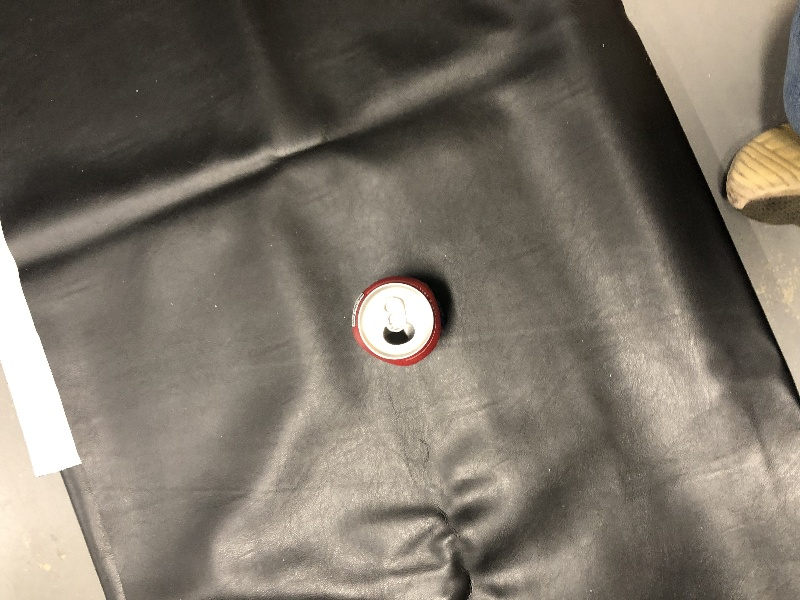metal: (338, 268, 465, 370)
